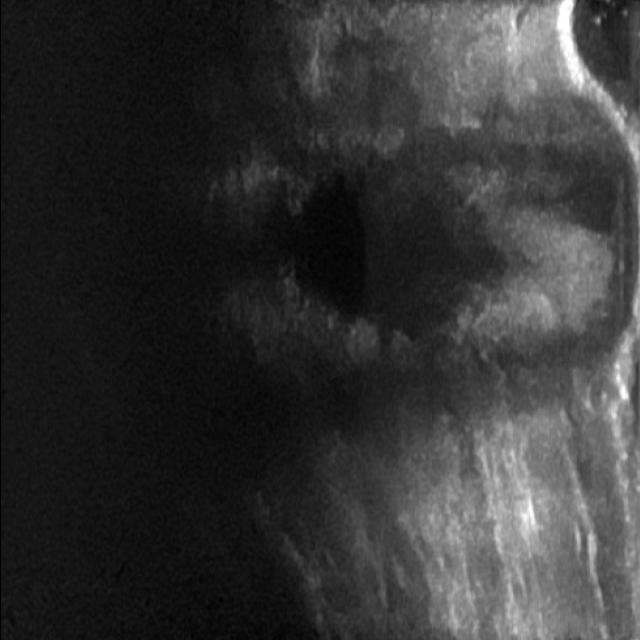Malignant: (282, 155, 498, 341)
